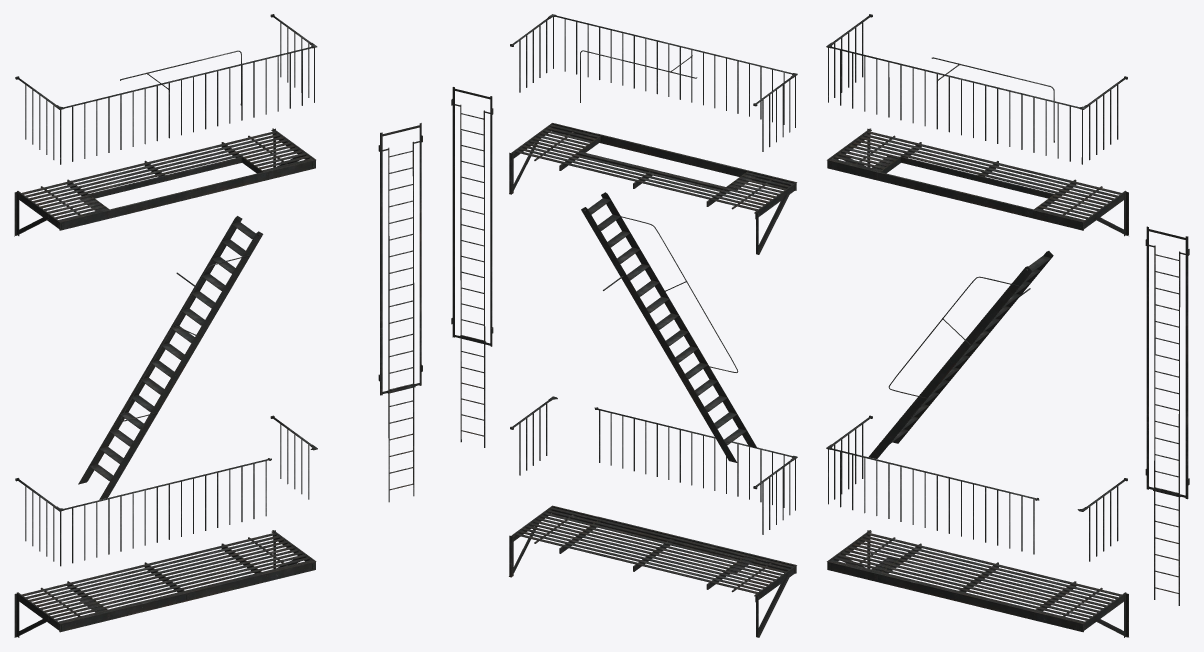
The model's file is modular_fire_escape.glb.
3 views of the same model, side by side, from view 1: azimuth 30°, elevation 25°; view 2: azimuth 150°, elevation 25°; view 3: azimuth 330°, elevation 25° (orthographic). The views are drawn at different scales.
Parts seen in each view (by area): view 1: modular_fire_escape_platform_middle, modular_fire_escape_railing_middle; view 2: modular_fire_escape_platform_middle, modular_fire_escape_railing_middle; view 3: modular_fire_escape_platform_middle, modular_fire_escape_railing_middle.
Part boxes in pixels (x1,y1,x2,y2): modular_fire_escape_platform_middle: (14, 128, 316, 637); modular_fire_escape_railing_middle: (15, 14, 422, 566); modular_fire_escape_platform_middle: (509, 123, 796, 637); modular_fire_escape_railing_middle: (451, 14, 797, 534); modular_fire_escape_platform_middle: (827, 128, 1128, 637); modular_fire_escape_railing_middle: (826, 14, 1189, 605).
Bounding box in the file's own units: 6.66 × 9.76 × 1.42.
2 materials, 2 textured.
